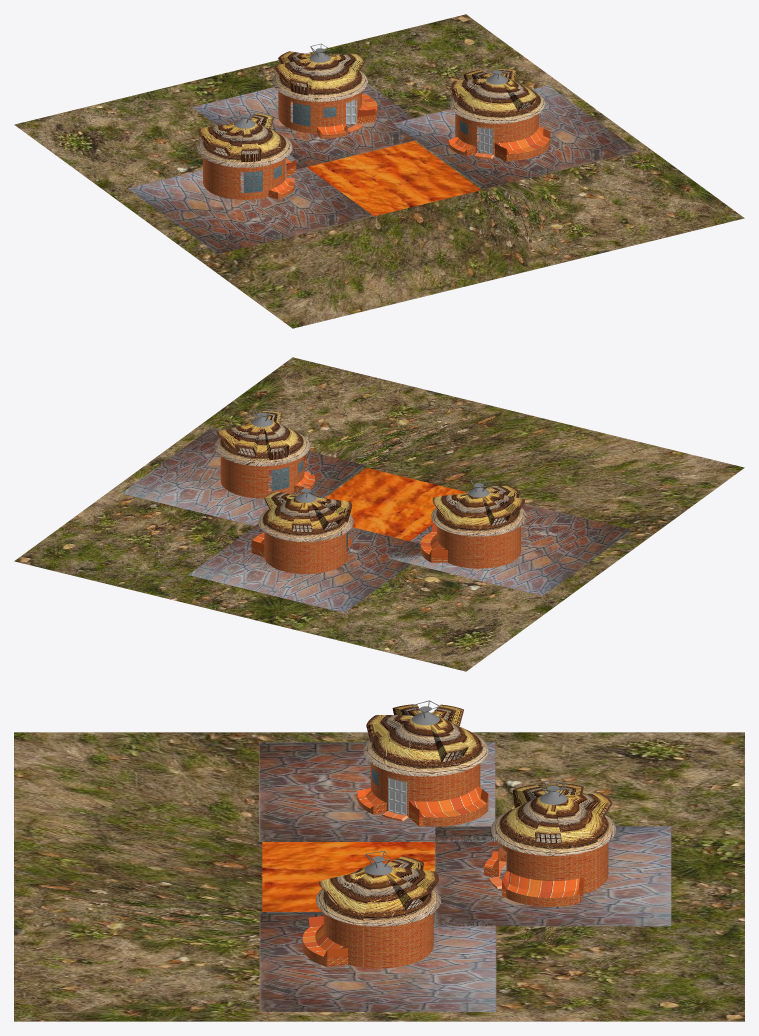
File: motebong lodge.fbx
3 views of the same model, one above another, from view 1: azimuth 30°, elevation 25°; view 2: azimuth 150°, elevation 25°; view 3: azimuth 270°, elevation 25° (orthographic). The views are drawn at different scales.
Parts seen in each view (by area): view 1: Plane004, Plane003, Plane001, Plane002, normal black roof part002, normal black roof part001, normal black roof part, house wall002, house wall, setupu002, house wall001, colourful roof part (+5 smaller); view 2: Plane004, Plane002, Plane003, Plane001, house wall001, house wall, normal black roof part, normal black roof part001, house wall002, normal black roof part002, colourful roof part002, setupu (+3 smaller); view 3: Plane004, Plane001, Plane002, Plane003, house wall002, normal black roof part001, normal black roof part, house wall001, normal black roof part002, house wall, setupu001, setupu (+13 smaller).
Boxes of the visible parts, <box> form: Plane004: <box>14,14,744,328</box>; Plane003: <box>128,154,373,254</box>; Plane001: <box>393,85,638,189</box>; Plane002: <box>192,83,437,169</box>; normal black roof part002: <box>449,78,544,123</box>; normal black roof part001: <box>272,57,367,101</box>; normal black roof part: <box>197,122,290,167</box>; house wall002: <box>457,113,538,158</box>; house wall: <box>203,157,294,199</box>; setupu002: <box>494,126,550,161</box>; house wall001: <box>278,91,363,132</box>; colourful roof part: <box>214,123,292,167</box>; Plane004: <box>14,357,744,671</box>; Plane002: <box>188,523,421,612</box>; Plane003: <box>387,503,632,595</box>; Plane001: <box>121,427,366,525</box>; house wall001: <box>264,532,346,573</box>; house wall: <box>437,526,520,568</box>; normal black roof part: <box>431,491,526,536</box>; normal black roof part001: <box>258,496,353,541</box>; house wall002: <box>220,456,310,498</box>; normal black roof part002: <box>214,420,309,465</box>; colourful roof part002: <box>224,420,309,466</box>; setupu: <box>420,524,447,562</box>; Plane004: <box>14,732,744,1021</box>; Plane001: <box>259,912,496,1011</box>; Plane002: <box>435,826,671,926</box>; Plane003: <box>259,742,495,841</box>; house wall002: <box>323,913,433,968</box>; normal black roof part001: <box>491,796,616,855</box>; normal black roof part: <box>363,716,487,776</box>; house wall001: <box>489,842,608,897</box>; normal black roof part002: <box>316,867,440,926</box>; house wall: <box>370,763,480,821</box>; setupu001: <box>502,871,583,906</box>; setupu: <box>409,786,488,826</box>.
Size of the model in its own units: 1159 by 179 by 1237.
Materials: 8 (6 with a texture image).
